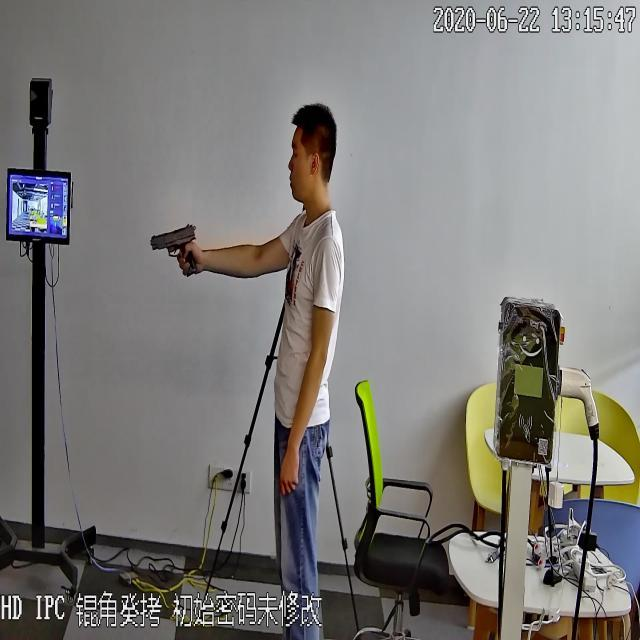gun-knife-thesis - v11 Yolov5 augmented: (142, 213, 201, 270)
